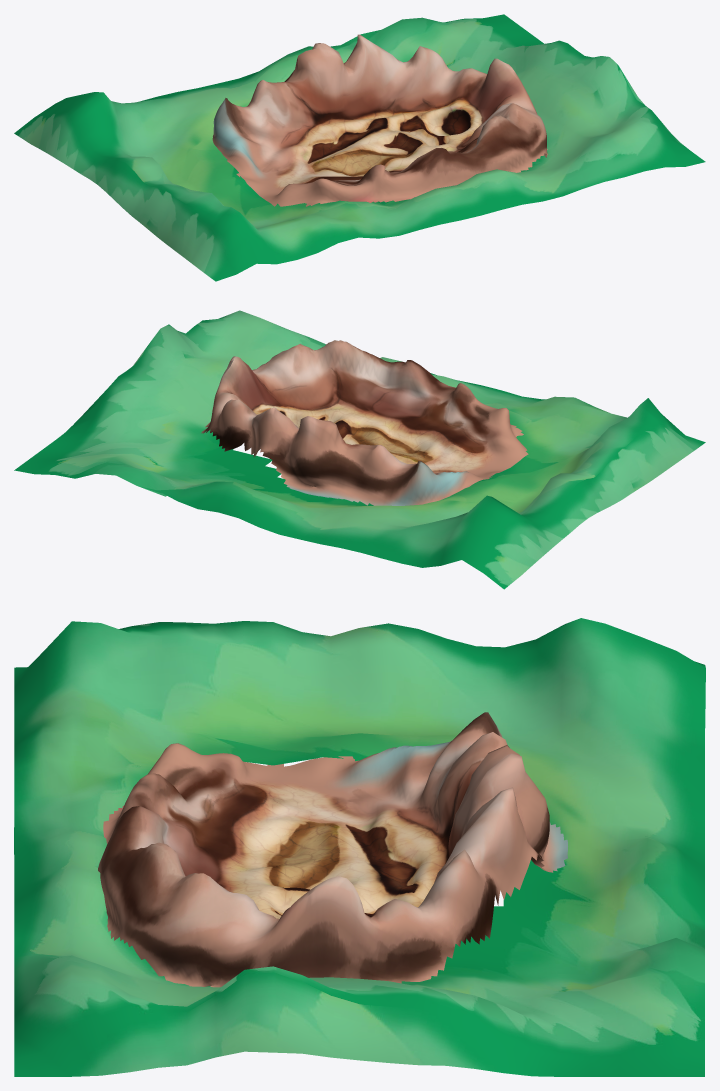
File: Map.FBX
3 views of the same model, one above another, from view 1: azimuth 30°, elevation 25°; view 2: azimuth 150°, elevation 25°; view 3: azimuth 270°, elevation 25° (orthographic). The views are drawn at different scales.
Visible parts, largest first — view 1: map_Outside, map; view 2: map_Outside, map; view 3: map_Outside, map.
Boxes of the visible parts, x1,y1,x2,y2 form: map_Outside: [14, 14, 705, 281]; map: [212, 34, 547, 206]; map_Outside: [14, 310, 705, 589]; map: [201, 340, 528, 505]; map_Outside: [14, 618, 705, 1076]; map: [98, 712, 567, 987].
Size of the model in its own units: 723 by 107 by 516.
